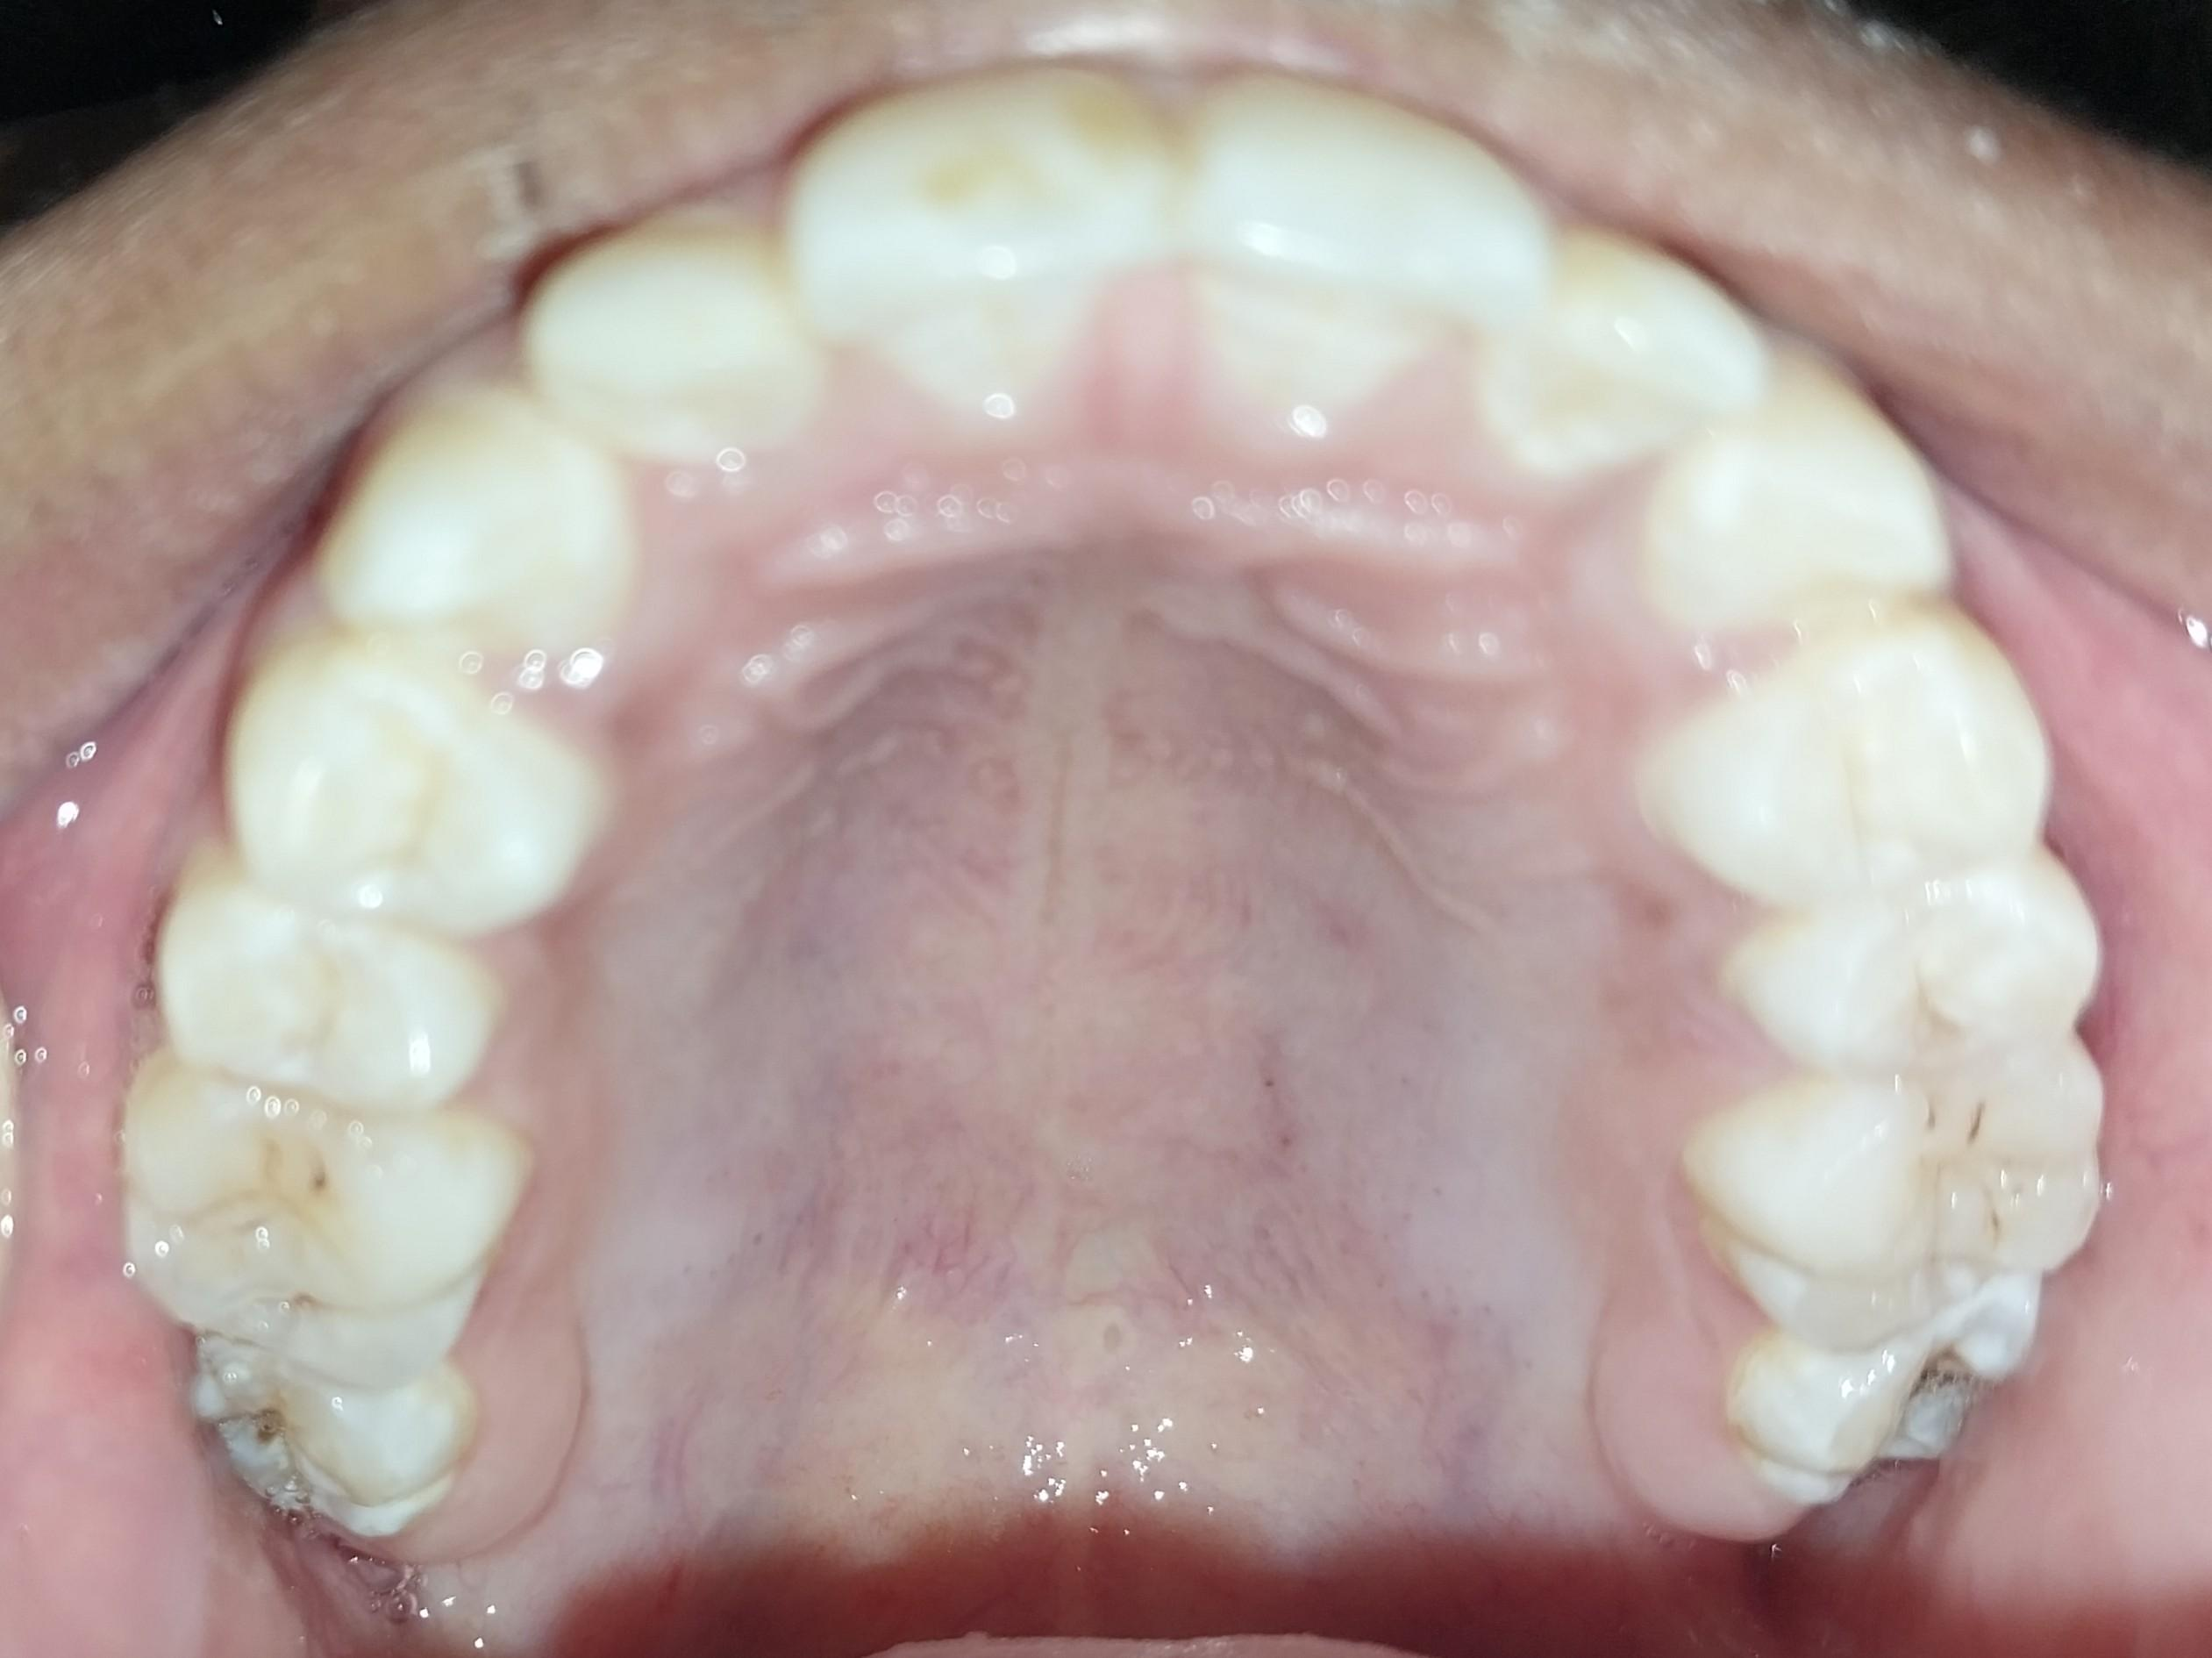D: (117, 1067, 535, 1392), (1731, 1272, 2040, 1511), (175, 1328, 472, 1555)
